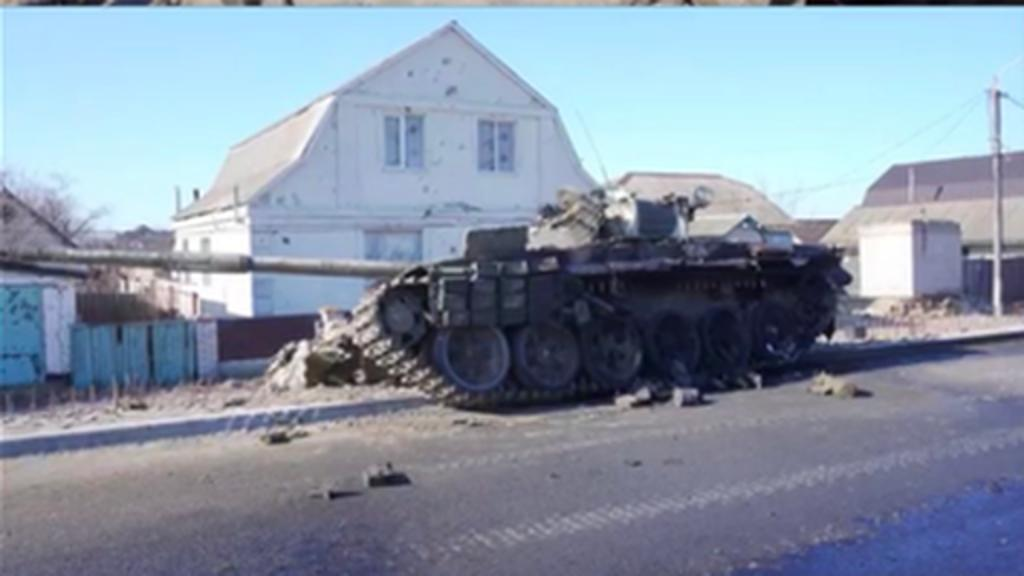TANK: (2, 180, 854, 424)
